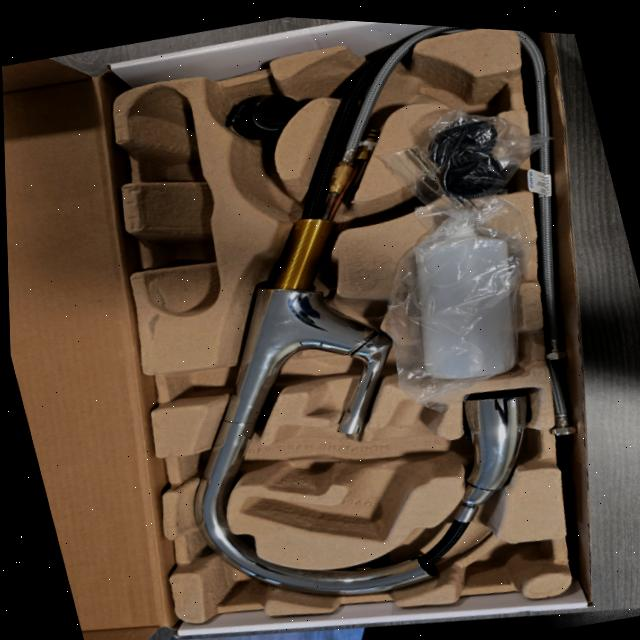1: (189, 33, 527, 597)
2m: (237, 397, 447, 541)
3: (420, 211, 515, 378)
4m: (130, 84, 216, 315)
5: (228, 93, 298, 138)
6m: (413, 59, 509, 135)
7: (377, 108, 556, 222)
